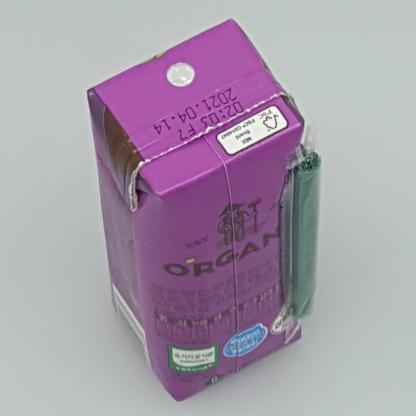---------------: (86, 18, 321, 401)
